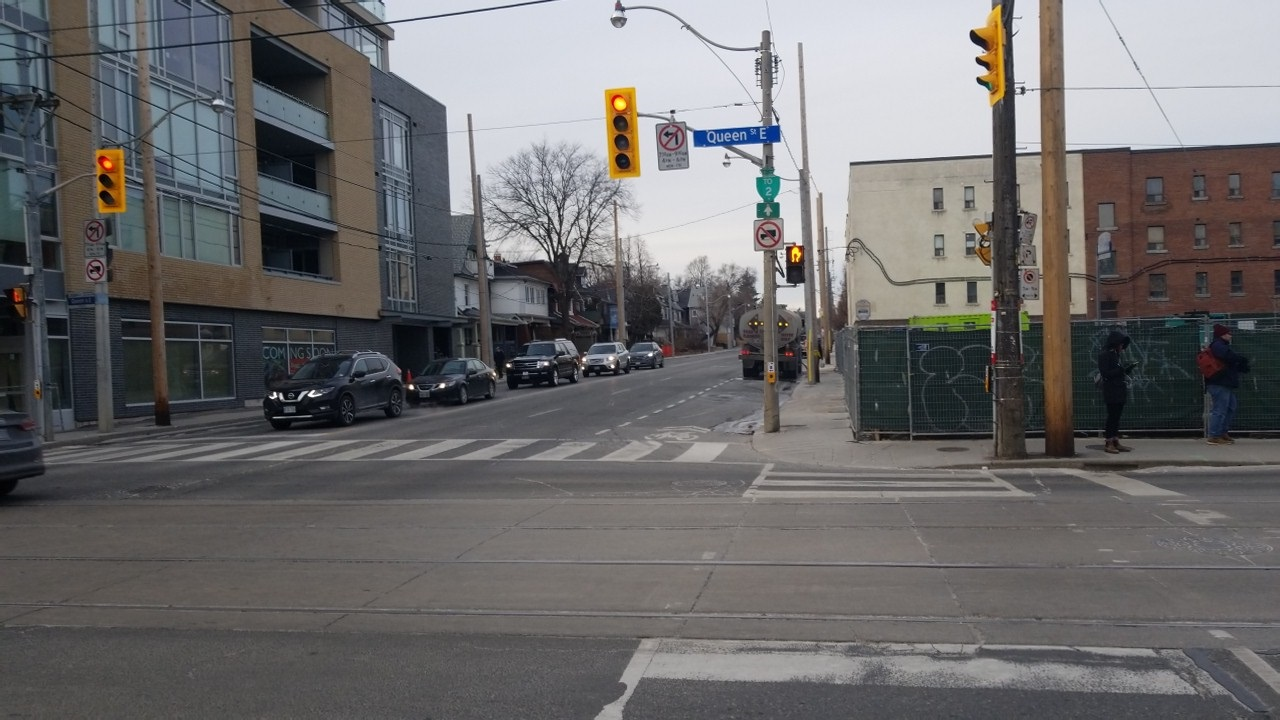light: (783, 243, 806, 284)
